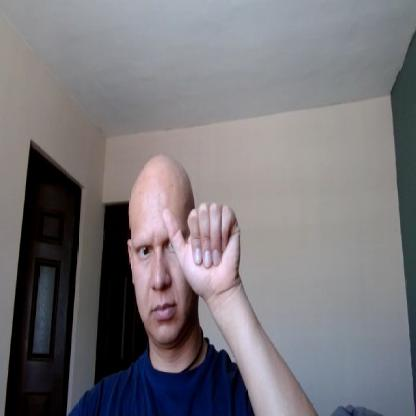A: (161, 203, 241, 299)
